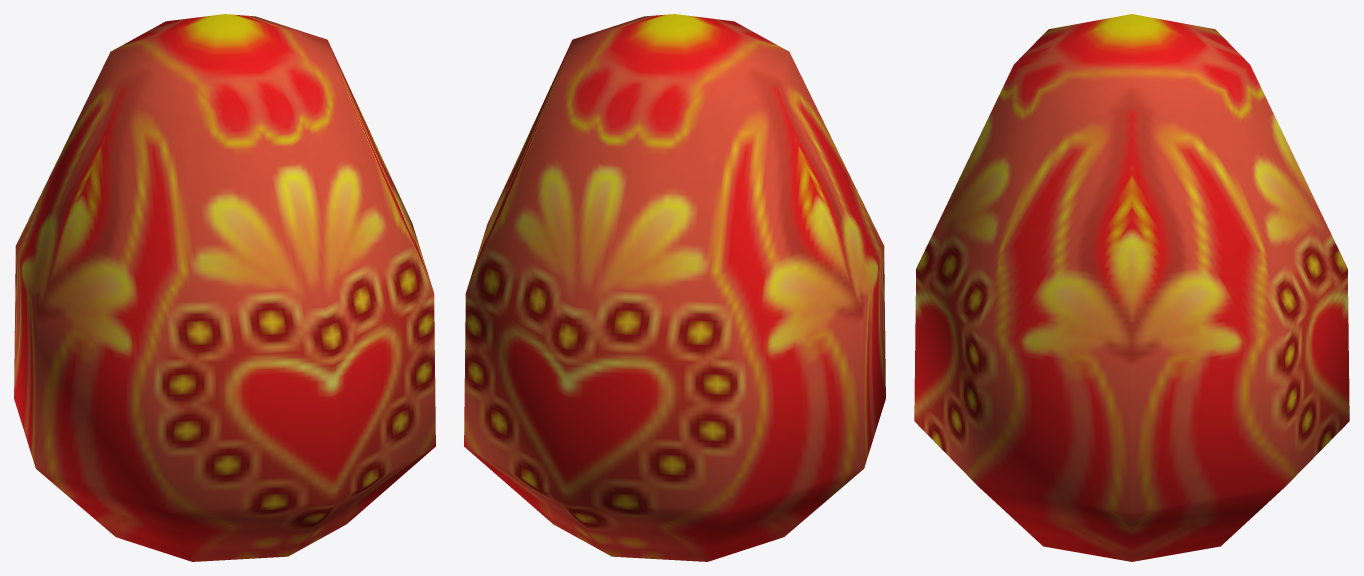
Rendered from Egg_12.FBX.
The picture shows the model from 3 angles, left to right: view 1: azimuth 30°, elevation 25°; view 2: azimuth 150°, elevation 25°; view 3: azimuth 270°, elevation 25°; orthographic projection.
Parts seen in each view (by area): view 1: Egg_12; view 2: Egg_12; view 3: Egg_12.
Boxes of the visible parts, x1,y1,x2,y2 form: Egg_12: (14,14,435,561); Egg_12: (464,14,885,561); Egg_12: (914,14,1349,561).
Size of the model in its own units: 0.4665 by 0.604 by 0.4665.
